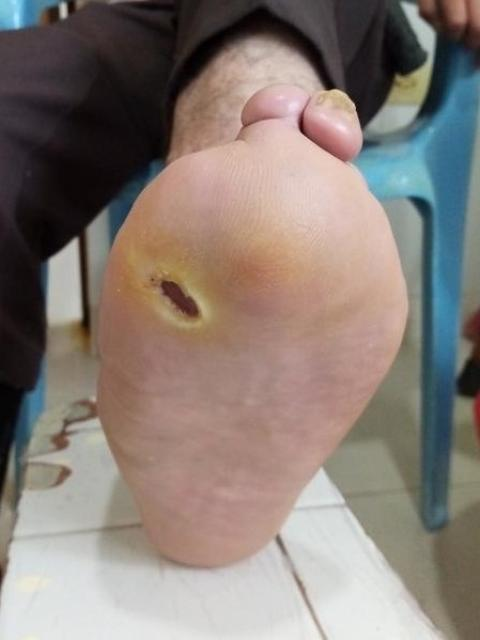wound: (144, 268, 206, 324)
